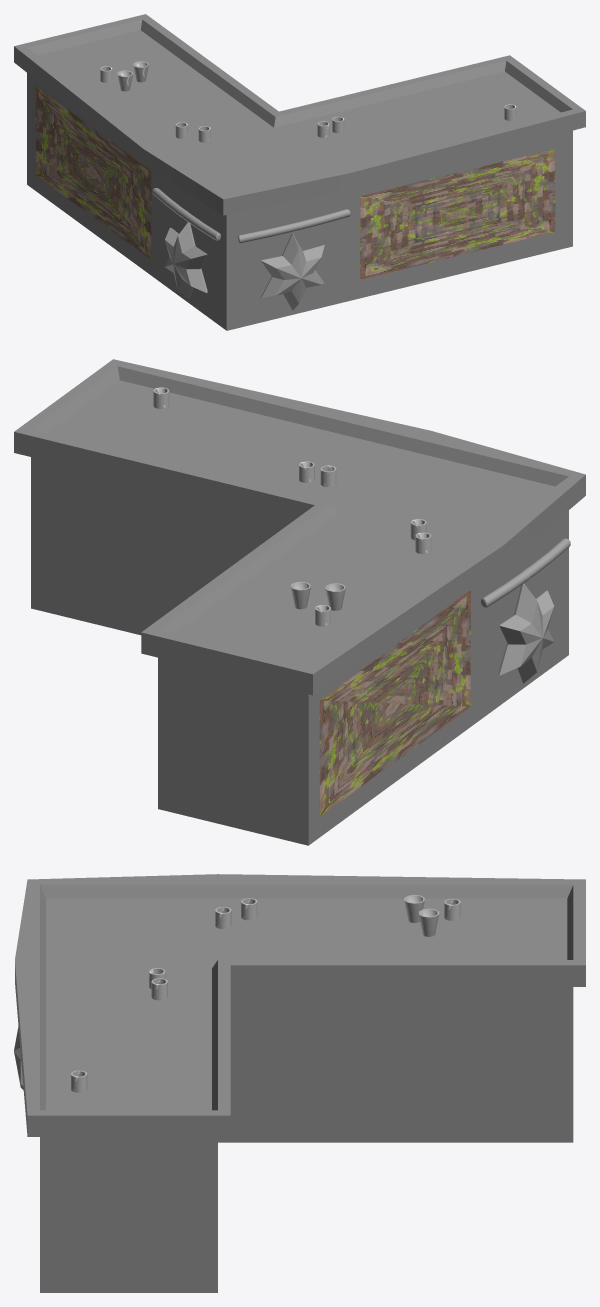
The model's file is INV_Bar_02.fbx.
3 renders of one model, top to bottom at view 1: azimuth 30°, elevation 25°; view 2: azimuth 150°, elevation 25°; view 3: azimuth 270°, elevation 25°, orthographic. The views are drawn at different scales.
Parts seen in each view (by area): view 1: INV_Bar_02; view 2: INV_Bar_02; view 3: INV_Bar_02.
Boxes of the visible parts, x1,y1,x2,y2 form: INV_Bar_02: (14, 14, 585, 330); INV_Bar_02: (14, 359, 585, 845); INV_Bar_02: (14, 874, 585, 1292).
Size of the model in its own units: 321 by 120 by 322.
